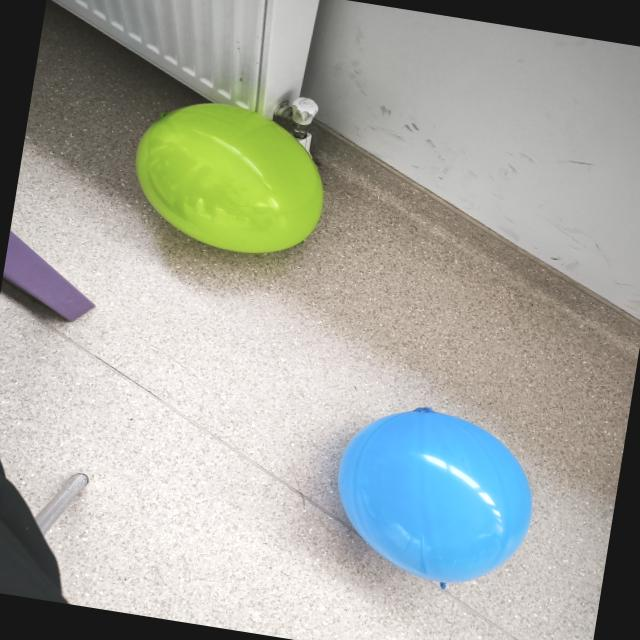balloon: (338, 408, 532, 583), (136, 104, 323, 253)
